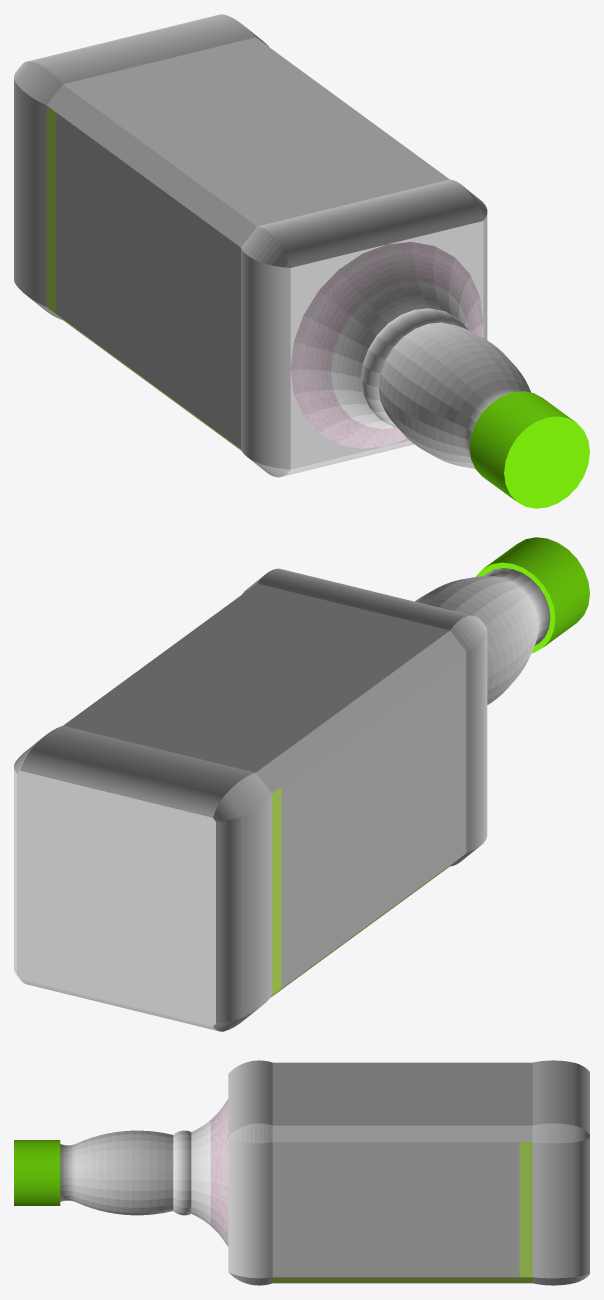
The model's file is model_scale.obj.
The picture shows the model from 3 angles, top to bottom: view 1: azimuth 30°, elevation 25°; view 2: azimuth 150°, elevation 25°; view 3: azimuth 270°, elevation 25°; orthographic projection. The views are drawn at different scales.
Parts seen in each view (by area): view 1: mesh6_mesh6-geometry, mesh1_mesh1-geometry; view 2: mesh6_mesh6-geometry, mesh1_mesh1-geometry; view 3: mesh6_mesh6-geometry, mesh1_mesh1-geometry.
Part boxes in pixels (x1,y1,x2,y2): mesh6_mesh6-geometry: (14,14,531,477); mesh1_mesh1-geometry: (469,391,589,508); mesh6_mesh6-geometry: (14,568,550,1031); mesh1_mesh1-geometry: (476,537,589,652); mesh6_mesh6-geometry: (60,1060,589,1285); mesh1_mesh1-geometry: (14,1140,60,1205).
Size of the model in its own units: 0.0572 by 0.0572 by 0.1842.
